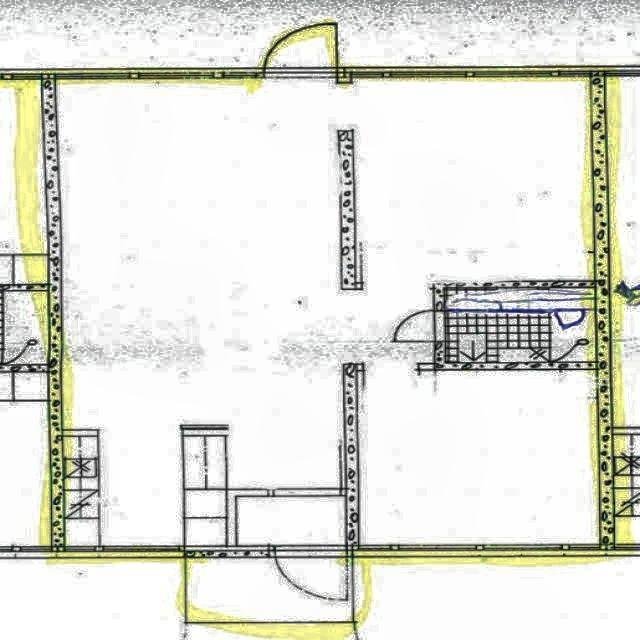room: (445, 288, 594, 363), (238, 497, 345, 546)
